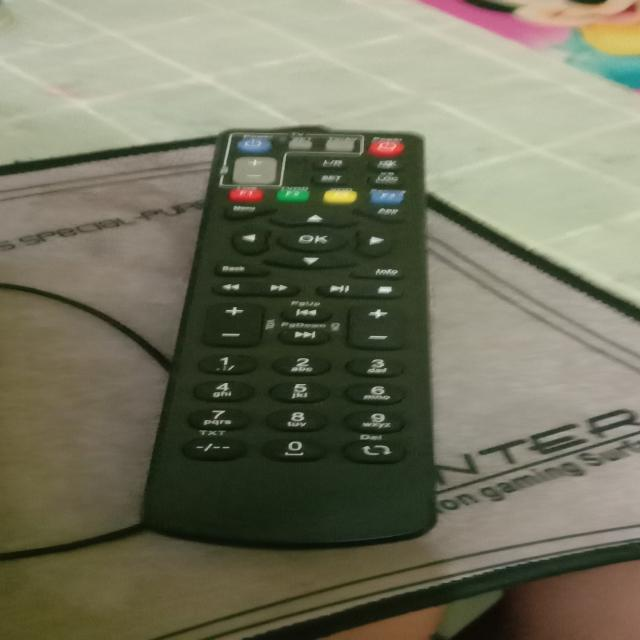remote: (134, 128, 449, 552)
